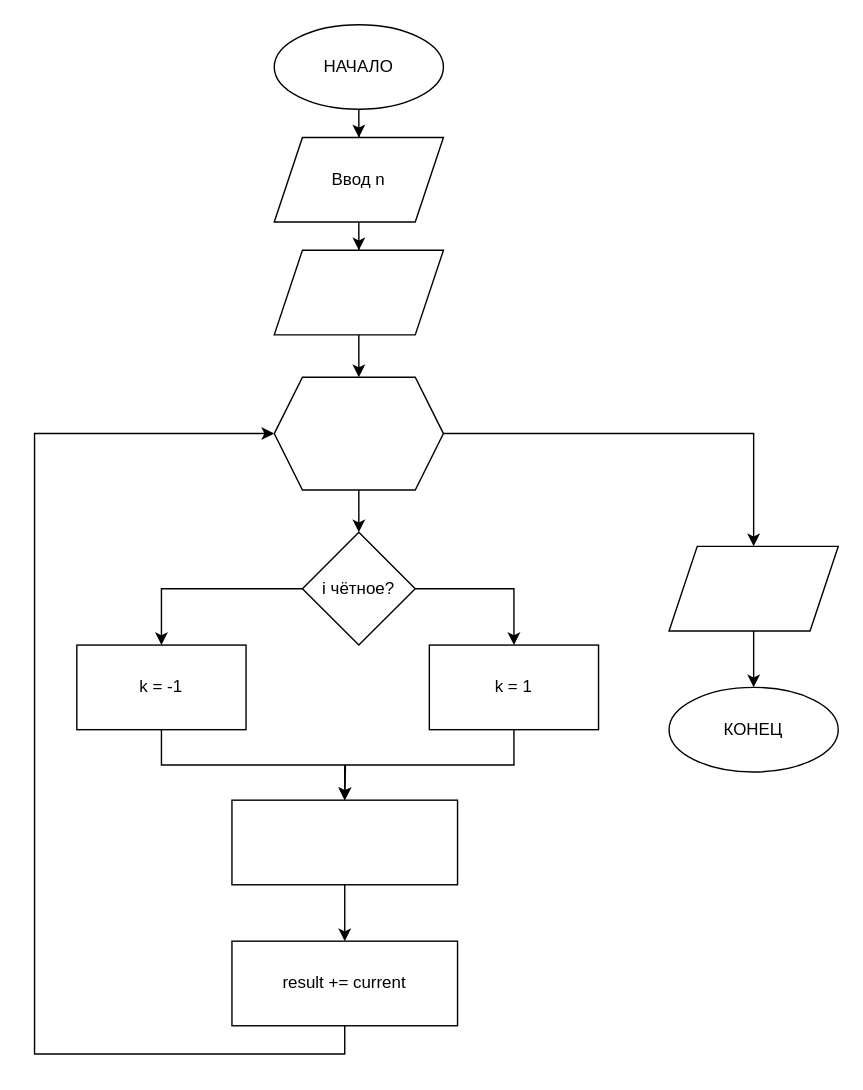
This 863x1090 diagram has some shape labels left out. Here are the shapes that lost their labels. From the top down, the centre of each, then its label:
At point (358, 292): "Ввод result = 1, current = 1".
At point (358, 433): "i, 0, n".
At point (753, 588): "Вывод result".
At point (344, 842): "current = current * k / 2".
